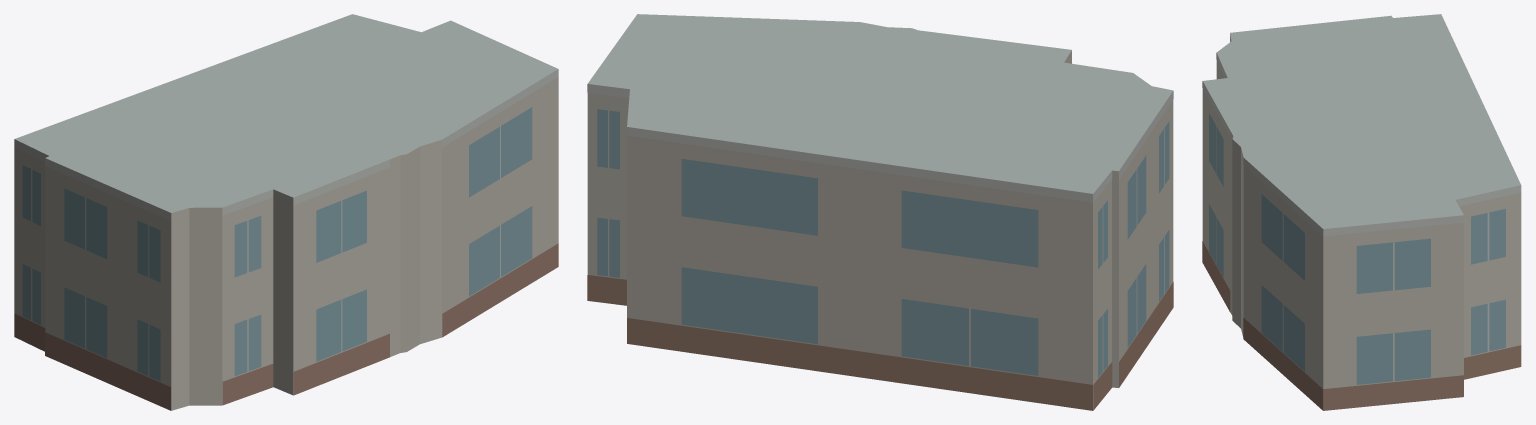
File: survey-upis-32881978.glb
The picture shows the model from 3 angles, left to right: view 1: azimuth 30°, elevation 25°; view 2: azimuth 150°, elevation 25°; view 3: azimuth 270°, elevation 25°; orthographic projection. The views are drawn at different scales.
Visible parts, largest first — view 1: survey-upis-32881978.tmp; view 2: survey-upis-32881978.tmp; view 3: survey-upis-32881978.tmp.
Boxes of the visible parts, bbox=[...] form: survey-upis-32881978.tmp: bbox=[14, 14, 558, 410]; survey-upis-32881978.tmp: bbox=[587, 14, 1173, 410]; survey-upis-32881978.tmp: bbox=[1202, 14, 1521, 410].
Bounding box in the file's own units: 15.5 × 6.1 × 9.71.
